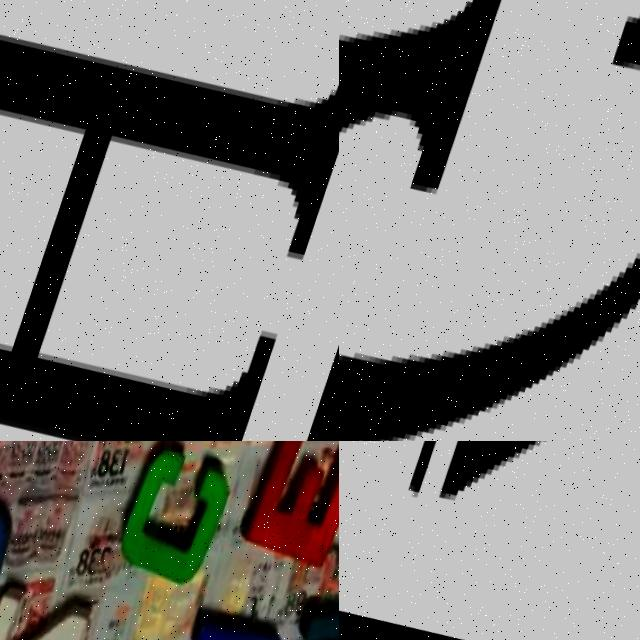C: (114, 441, 241, 588)
E: (241, 441, 339, 580)
G: (339, 0, 640, 441)
H: (0, 40, 339, 441)
Z: (0, 585, 93, 640)
